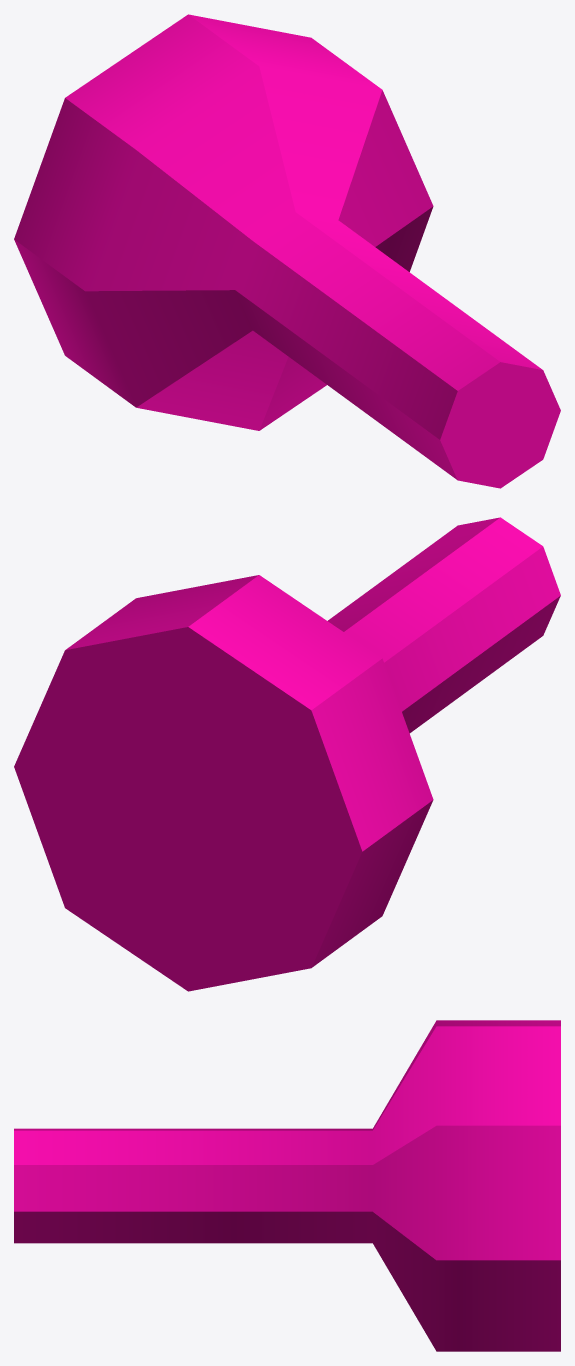
Rendered from knob.fbx.
3 renders of one model, top to bottom at view 1: azimuth 30°, elevation 25°; view 2: azimuth 150°, elevation 25°; view 3: azimuth 270°, elevation 25°, orthographic. The views are drawn at different scales.
Parts seen in each view (by area): view 1: pCylinder2; view 2: pCylinder2; view 3: pCylinder2.
Part boxes in pixels (<box>): pCylinder2: <box>14,14,560,488</box>; pCylinder2: <box>14,517,560,991</box>; pCylinder2: <box>14,1020,560,1351</box>.
Size of the model in its own units: 0.5955 by 0.5955 by 0.9245.
